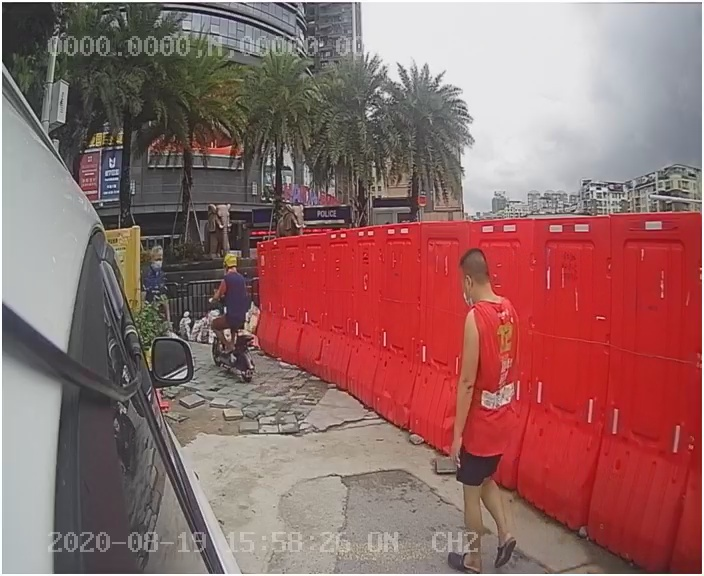person: (432, 240, 548, 570)
